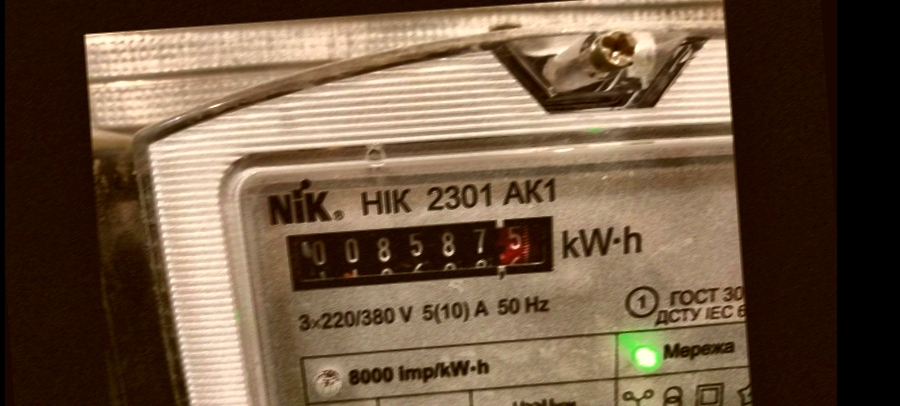0: (310, 237, 329, 267), (344, 236, 363, 265)
5: (508, 223, 527, 254), (408, 230, 427, 259)
7: (472, 225, 491, 256)
8: (440, 228, 459, 259), (376, 235, 394, 264)
screen: (269, 200, 576, 304)
